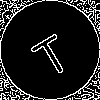T: (25, 25, 75, 80)
